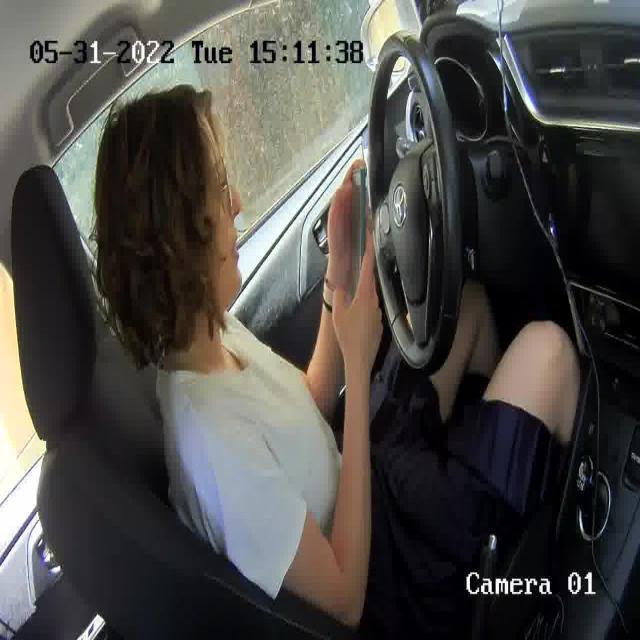Eye-Close: (215, 178, 229, 195)
Inattentive: (99, 84, 243, 318)
Normal: (224, 244, 241, 268)
